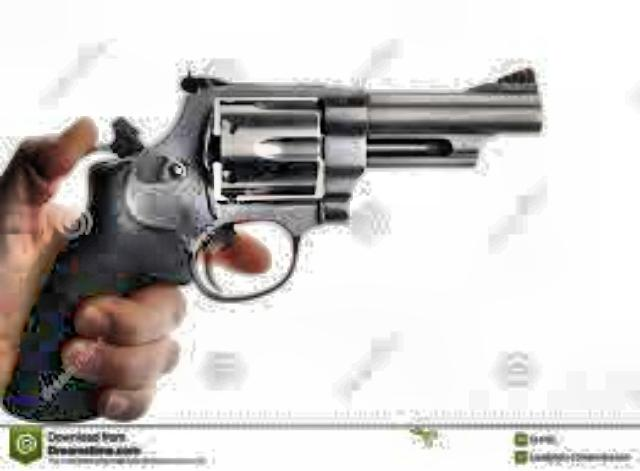pistol: (3, 66, 535, 410)
